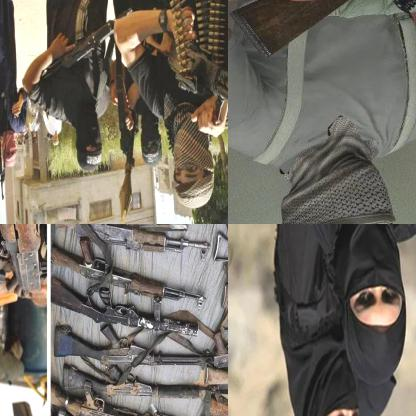rifle: (143, 23, 227, 209), (51, 236, 210, 313), (228, 0, 415, 63), (51, 277, 203, 339), (40, 0, 135, 83), (54, 323, 218, 371), (51, 224, 213, 263), (62, 364, 210, 404), (115, 87, 143, 223), (0, 224, 49, 298), (0, 224, 25, 272), (0, 120, 12, 205), (211, 232, 227, 275), (211, 331, 227, 369), (204, 392, 227, 415)
